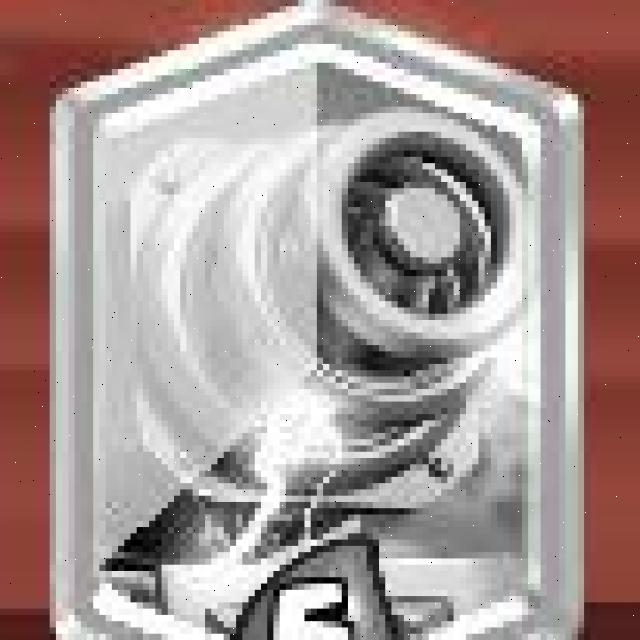Sparky: (50, 0, 586, 640)
